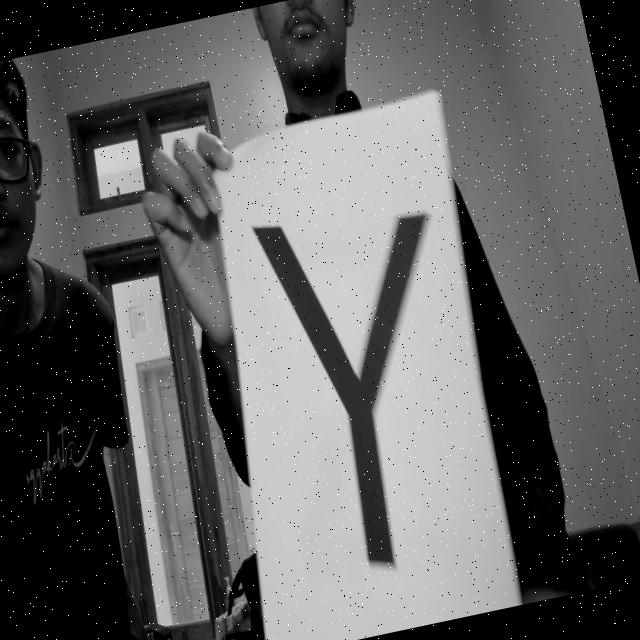y: (236, 161, 509, 597)
